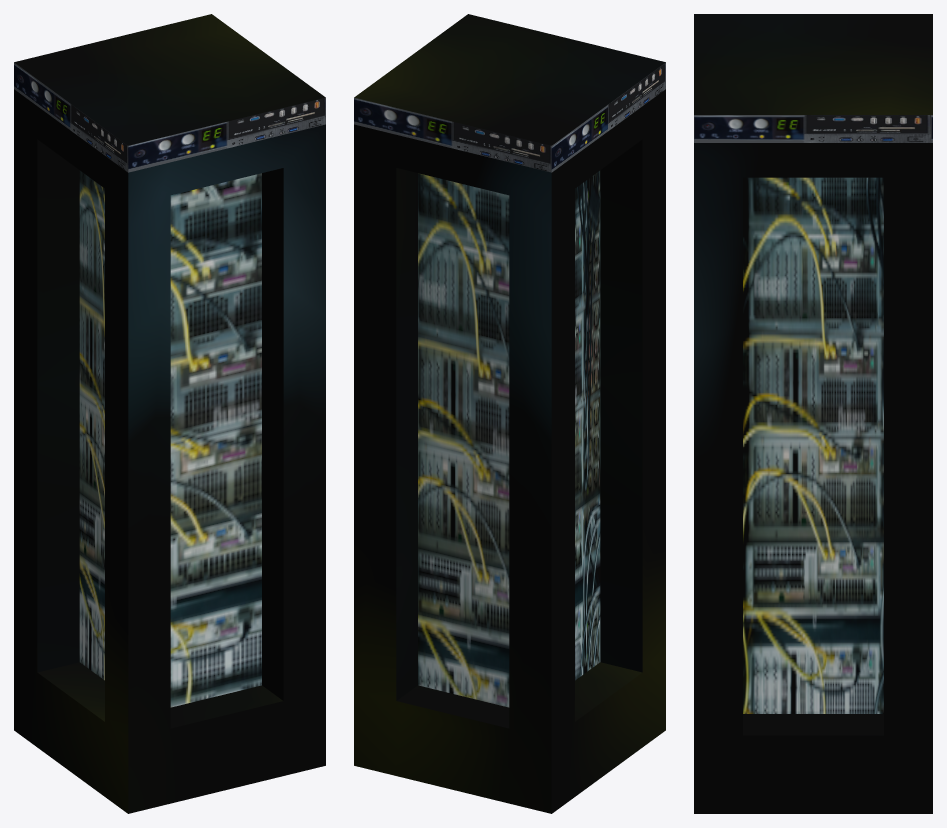
The model's file is servidor.fbx.
3 views of the same model, side by side, from view 1: azimuth 30°, elevation 25°; view 2: azimuth 150°, elevation 25°; view 3: azimuth 270°, elevation 25° (orthographic). The views are drawn at different scales.
Visible parts, largest first — view 1: Cube; view 2: Cube; view 3: Cube.
Part boxes in pixels (bbox=[...]): Cube: bbox=[14, 14, 325, 813]; Cube: bbox=[354, 14, 665, 813]; Cube: bbox=[694, 14, 932, 813].
Bounding box in the file's own units: 200 × 646 × 200.
